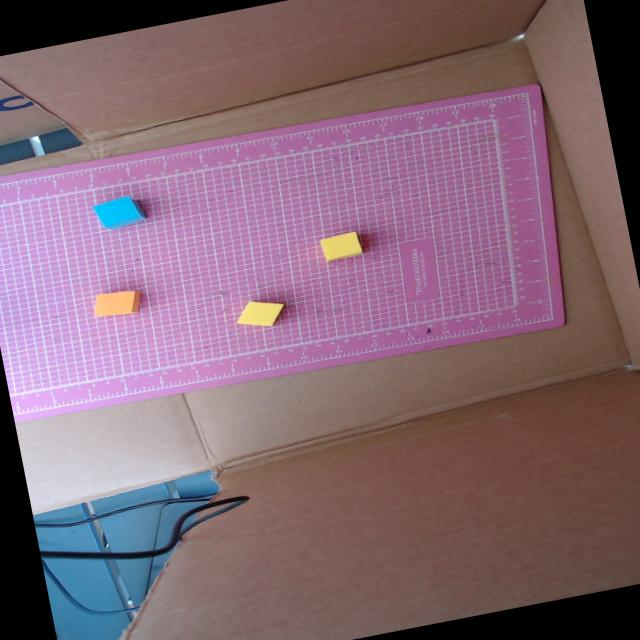bluecube: (92, 196, 146, 230)
orangecube: (94, 291, 139, 316)
yellowcube: (319, 231, 362, 262), (236, 301, 284, 326)
